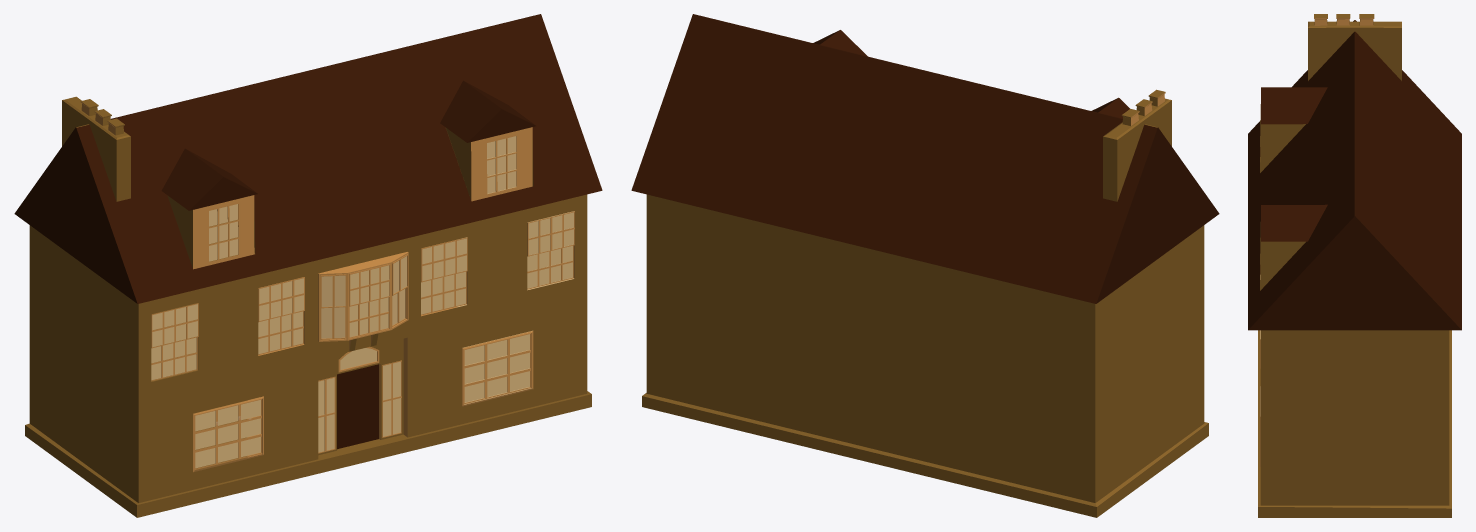
The model's file is House 1.2.fbx.
The picture shows the model from 3 angles, left to right: view 1: azimuth 30°, elevation 25°; view 2: azimuth 150°, elevation 25°; view 3: azimuth 270°, elevation 25°; orthographic projection. The views are drawn at different scales.
Parts seen in each view (by area): view 1: Cube; view 2: Cube; view 3: Cube.
Boxes of the visible parts, <box> form: Cube: <box>14,14,602,517</box>; Cube: <box>631,14,1219,517</box>; Cube: <box>1248,14,1461,517</box>.
Size of the model in its own units: 7.38 by 5.53 by 3.39.
